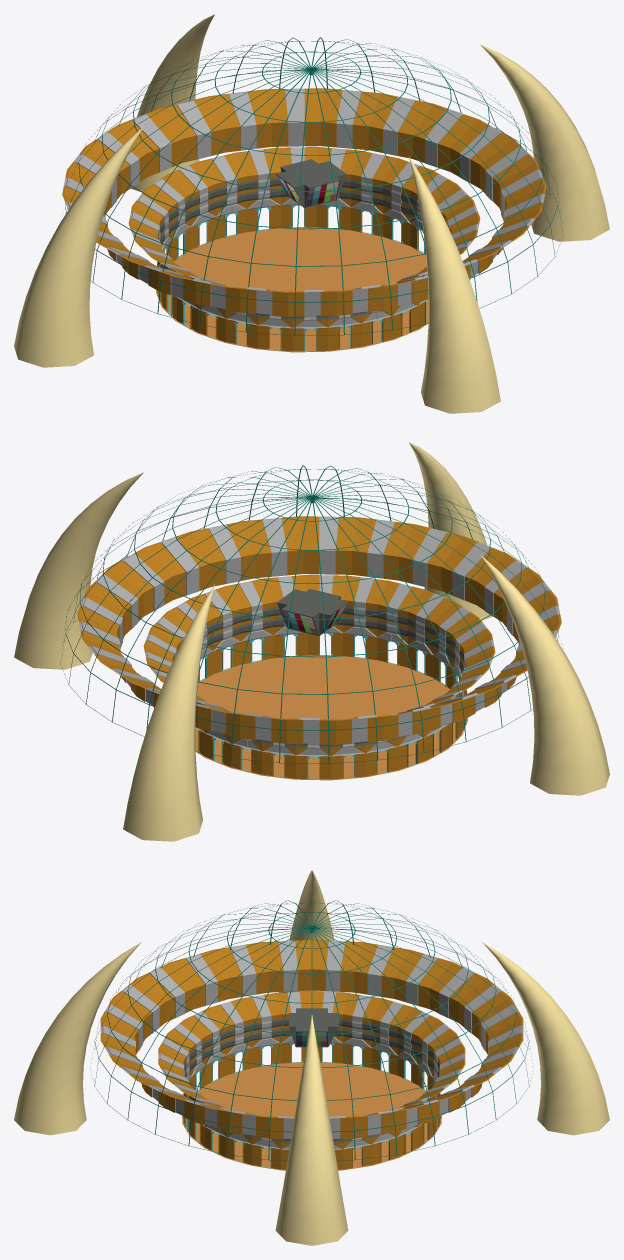
The model's file is ShoutOut Arena Base Texture.FBX.
3 views of the same model, one above another, from view 1: azimuth 30°, elevation 25°; view 2: azimuth 150°, elevation 25°; view 3: azimuth 270°, elevation 25° (orthographic). The views are drawn at different scales.
Visible parts, largest first — view 1: Arena, Arena001, Dome, Cone002, Cone003, Cone001, Floor, Floor001, Cone004, Screens, DoorThings001, DoorThing (+21 smaller); view 2: Arena, Arena001, Dome, Cone002, Cone004, Cone001, Floor, Floor001, Cone003, Screens, DoorThing005, DoorThing002 (+21 smaller); view 3: Arena001, Dome, Arena, Cone001, Cone003, Cone004, Floor001, WallRibs001, Cone002, Screens, DoorThings013, DoorThing008 (+15 smaller).
Boxes of the visible parts, left/top/right/bottom form: Arena: left=193, top=88, right=546, bottom=341; Arena001: left=62, top=104, right=415, bottom=351; Dome: left=65, top=37, right=563, bottom=335; Cone002: left=14, top=126, right=143, bottom=367; Cone003: left=409, top=156, right=500, bottom=413; Cone001: left=480, top=44, right=609, bottom=241; Floor: left=231, top=227, right=428, bottom=343; Floor001: left=156, top=235, right=377, bottom=352; Cone004: left=131, top=14, right=214, bottom=191; Screens: left=276, top=159, right=346, bottom=207; DoorThings001: left=228, top=91, right=280, bottom=209; DoorThing: left=351, top=97, right=415, bottom=213; Arena: left=77, top=516, right=430, bottom=769; Arena001: left=208, top=532, right=561, bottom=779; Dome: left=60, top=465, right=561, bottom=763; Cone002: left=480, top=554, right=609, bottom=795; Cone004: left=123, top=584, right=214, bottom=841; Cone001: left=14, top=472, right=143, bottom=669; Floor: left=195, top=655, right=392, bottom=771; Floor001: left=246, top=663, right=467, bottom=780; Cone003: left=409, top=442, right=492, bottom=619; Screens: left=277, top=589, right=347, bottom=635; DoorThing005: left=343, top=519, right=395, bottom=637; DoorThing002: left=208, top=525, right=272, bottom=641; Arena001: left=100, top=939, right=523, bottom=1089; Dome: left=90, top=900, right=532, bottom=1160; Arena: left=100, top=1033, right=523, bottom=1169; Cone001: left=275, top=1015, right=348, bottom=1245; Cone003: left=14, top=942, right=141, bottom=1135; Cone004: left=482, top=942, right=609, bottom=1135; Floor001: left=198, top=1062, right=425, bottom=1116; WallRibs001: left=184, top=1018, right=439, bottom=1077; Cone002: left=278, top=870, right=345, bottom=992; Screens: left=289, top=1008, right=338, bottom=1047; DoorThings013: left=229, top=944, right=280, bottom=1047; DoorThing008: left=343, top=945, right=394, bottom=1047.
Bounding box in the file's own units: 4190 × 1489 × 4190.
Materials: 2 (1 with a texture image).
